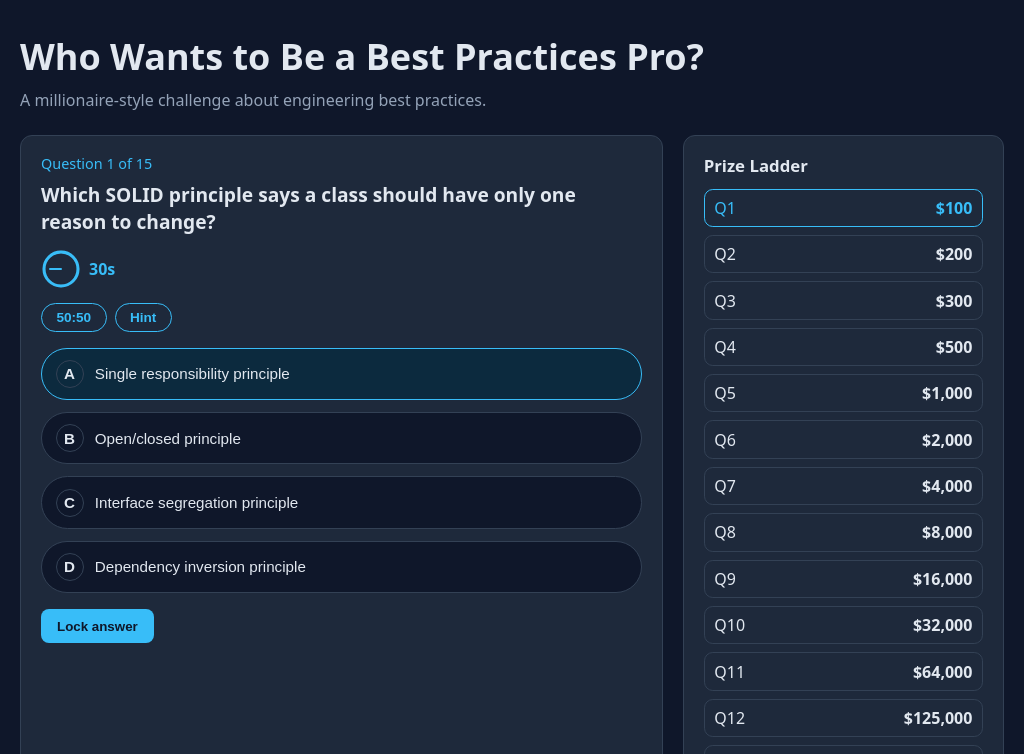
Test case: BestPracticesQuizPage › reveals a best practices specific hint
Click the button "Hint" at [143, 318], box [115, 303, 172, 332]
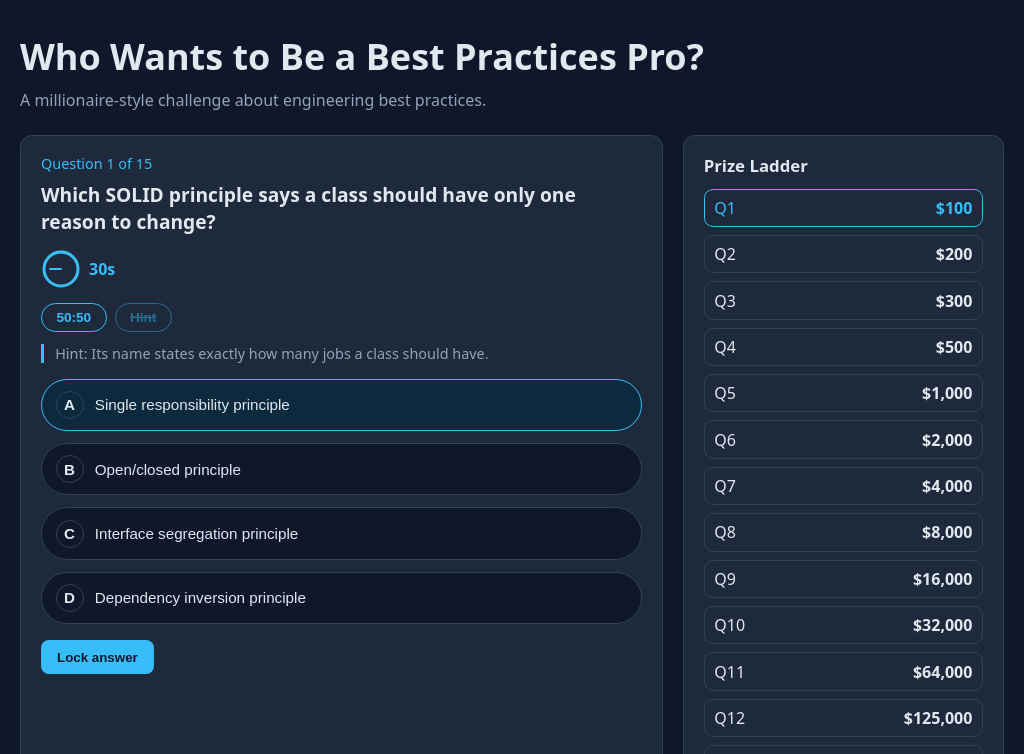
Now the text "how many jobs a class should have" is shown, box [91, 344, 489, 363]
